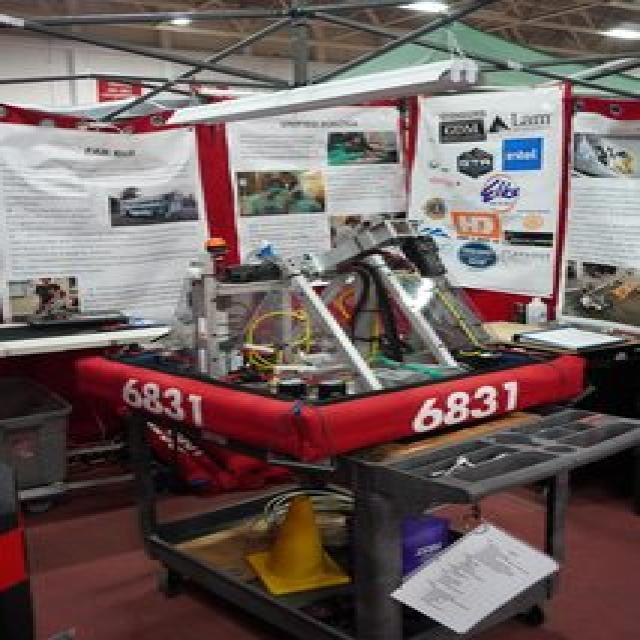robot: (59, 198, 602, 474)
